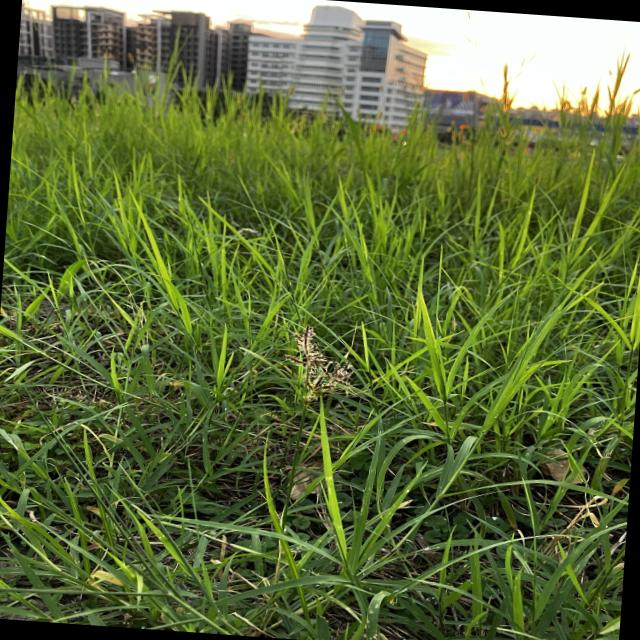cyperus: (273, 314, 366, 402), (52, 369, 134, 426)
